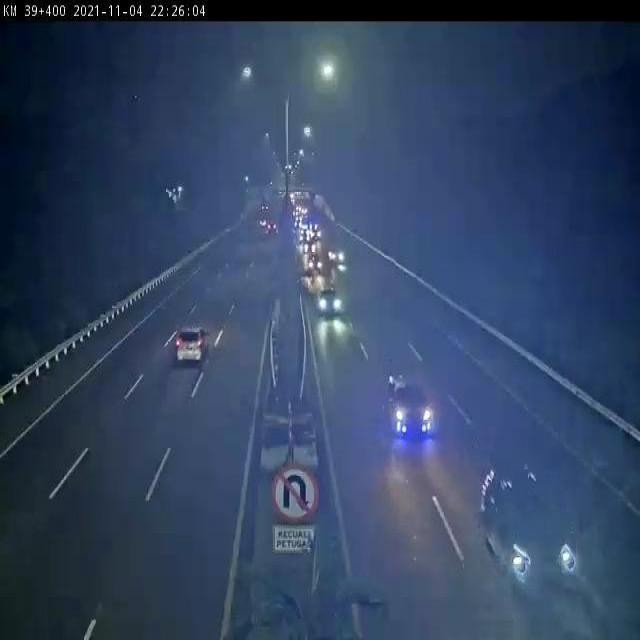car: (482, 459, 575, 604), (379, 367, 444, 442), (175, 317, 205, 372), (318, 289, 346, 315), (332, 249, 350, 272), (308, 254, 321, 274), (304, 242, 316, 255)
